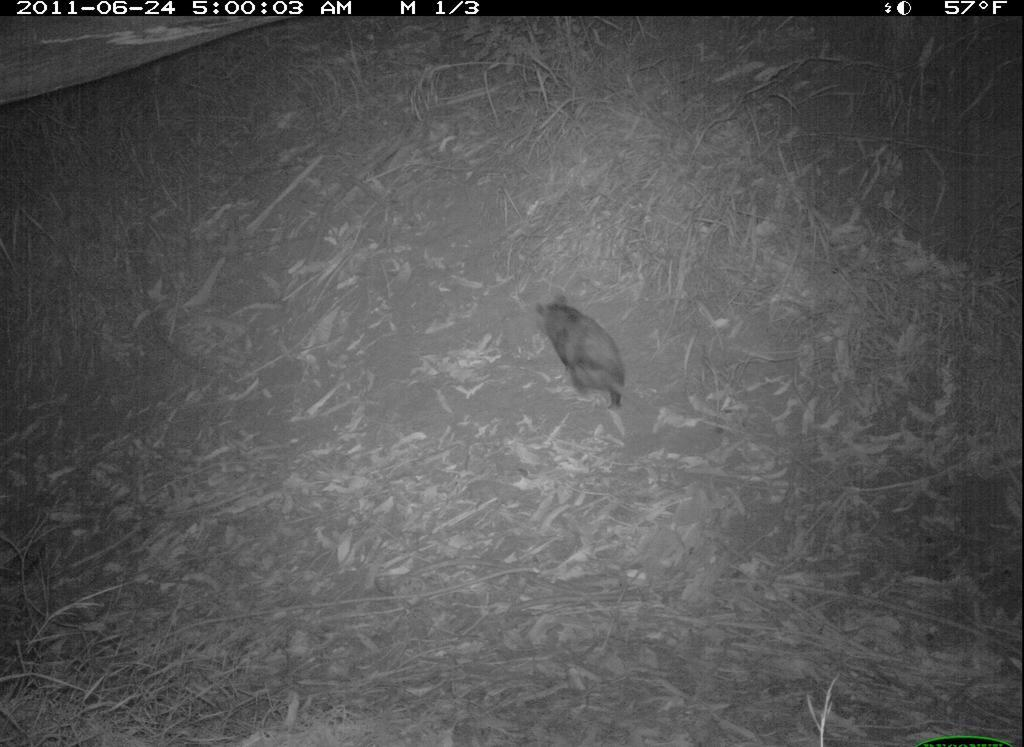opossum: (528, 288, 638, 418)
